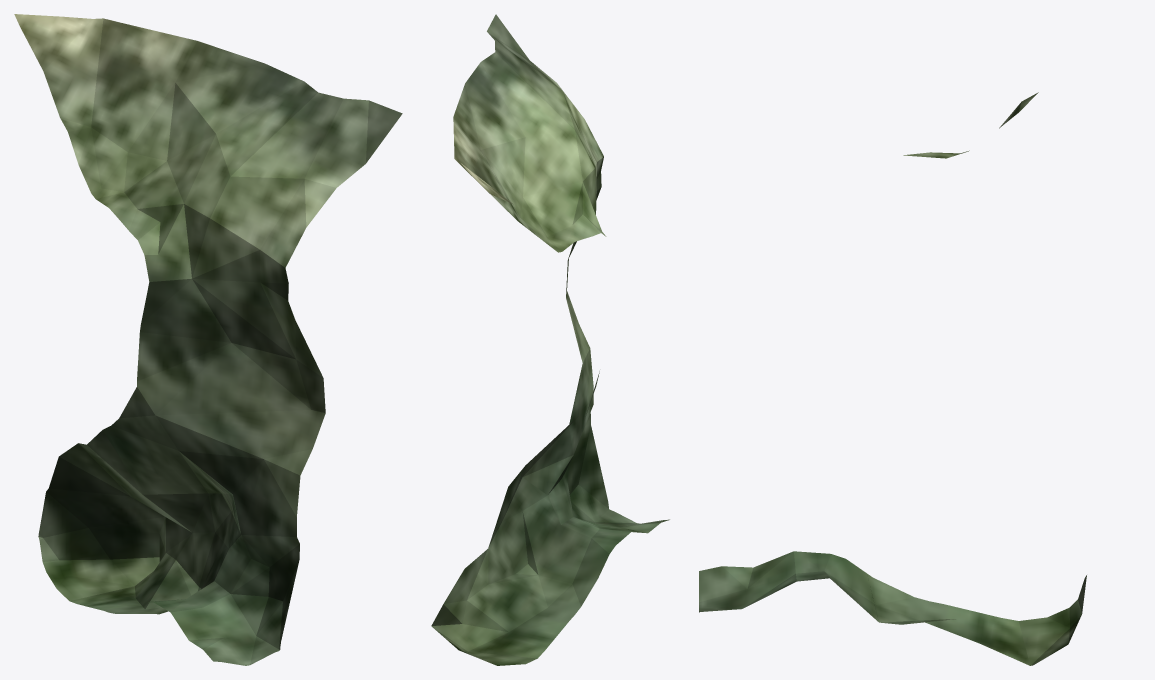
The picture shows the model from 3 angles, left to right: view 1: azimuth 30°, elevation 25°; view 2: azimuth 150°, elevation 25°; view 3: azimuth 270°, elevation 25°; orthographic projection. The views are drawn at different scales.
Size of the model in its own units: 1.11 by 3.09 by 2.02.
Materials: 1 (1 with a texture image).
